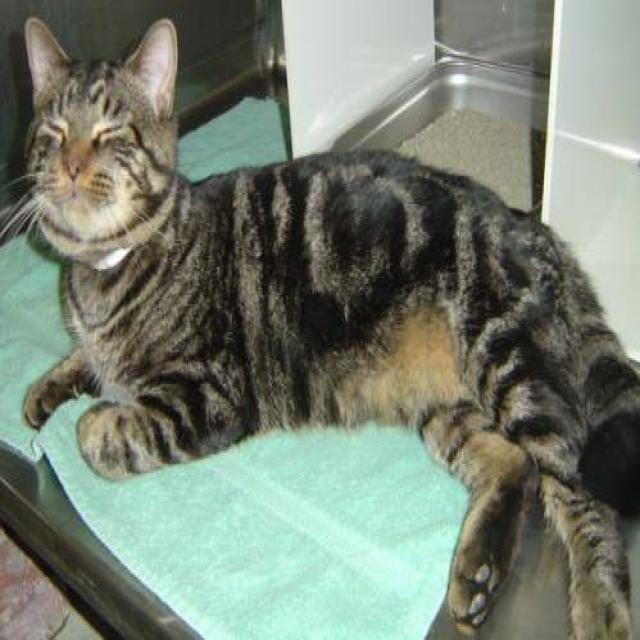cat: (0, 13, 639, 638)
